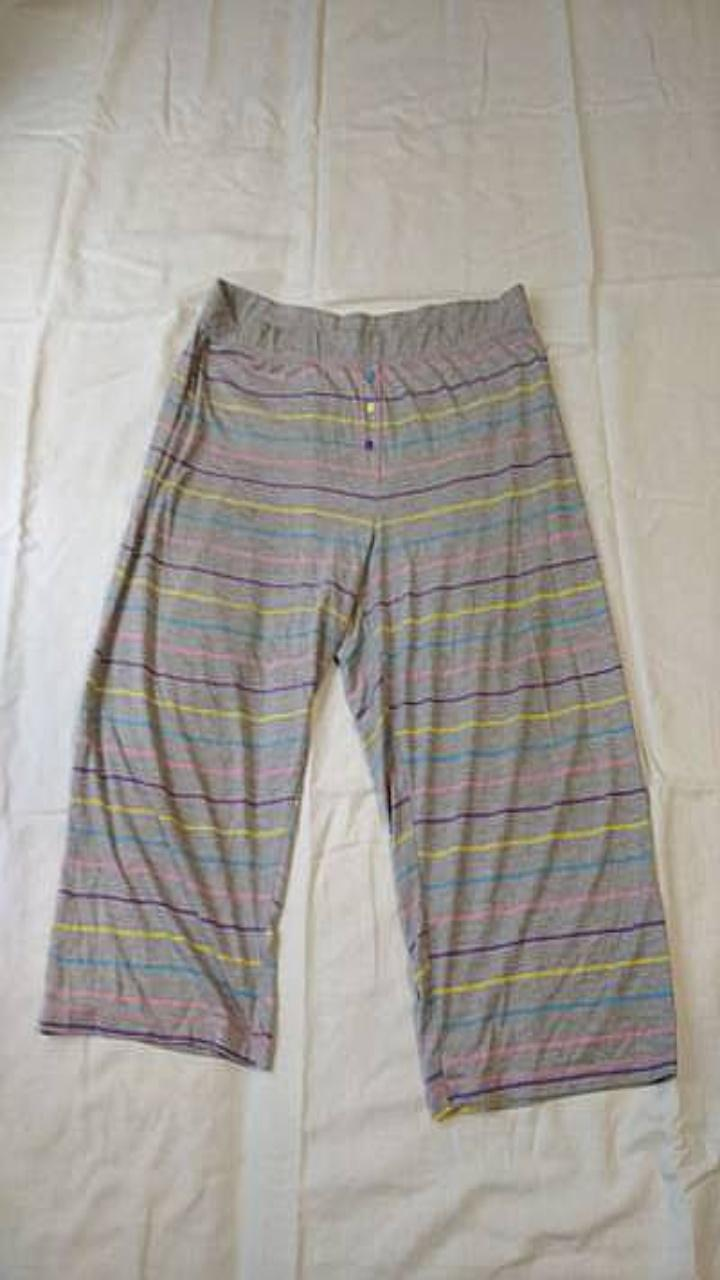Shorts: (38, 278, 675, 1118)
